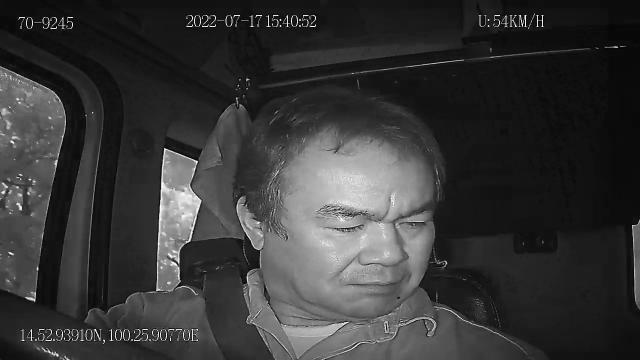SafeDriving: (312, 202, 372, 236), (386, 206, 436, 234)
Seatbelt: (200, 264, 278, 360)
